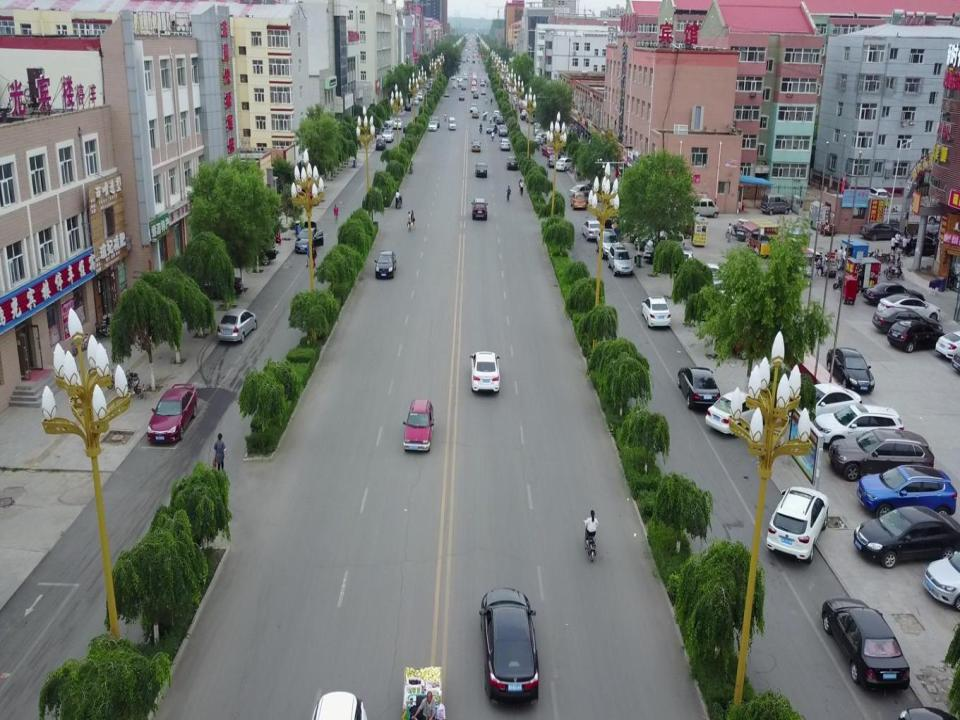car: (821, 598, 911, 690), (479, 588, 540, 712), (852, 505, 960, 568), (830, 428, 936, 482), (857, 464, 957, 520), (766, 485, 829, 562), (812, 404, 905, 454), (777, 384, 863, 429), (705, 390, 773, 437), (147, 383, 197, 444), (826, 347, 874, 394), (922, 551, 960, 608), (677, 365, 721, 411), (888, 319, 948, 352), (878, 294, 942, 324), (174, 273, 242, 299), (872, 306, 930, 336), (402, 399, 434, 453), (311, 691, 367, 720), (862, 281, 924, 306), (217, 308, 257, 344), (470, 351, 502, 393), (894, 235, 944, 257), (640, 294, 671, 329), (226, 244, 276, 264), (607, 242, 634, 278), (858, 222, 905, 240), (595, 229, 621, 260), (294, 228, 325, 253), (934, 331, 960, 360), (375, 251, 397, 280), (569, 184, 600, 200), (581, 220, 603, 241), (471, 198, 488, 219), (570, 192, 586, 210), (555, 158, 574, 170), (474, 163, 488, 179), (541, 144, 555, 158), (506, 156, 518, 170), (382, 130, 394, 143), (547, 154, 560, 166), (375, 138, 387, 150), (470, 140, 482, 152), (498, 138, 510, 150), (498, 124, 509, 136), (535, 133, 549, 141), (487, 124, 498, 134), (526, 112, 538, 121), (448, 117, 456, 130), (384, 116, 394, 126), (393, 118, 402, 129), (428, 121, 437, 132), (431, 116, 439, 127), (471, 109, 479, 118), (520, 111, 528, 120), (470, 104, 478, 112), (412, 97, 419, 105), (496, 116, 503, 124), (513, 92, 518, 103), (404, 104, 411, 111), (458, 93, 465, 100), (417, 92, 422, 101), (509, 84, 514, 92), (473, 92, 479, 98), (450, 74, 456, 80), (445, 89, 449, 97), (473, 72, 477, 80), (451, 82, 456, 88), (481, 89, 486, 95), (472, 79, 477, 85), (472, 86, 477, 91), (480, 80, 484, 86), (458, 76, 462, 82), (519, 104, 524, 108), (461, 86, 465, 90), (426, 84, 429, 88)
van: (643, 246, 693, 264), (645, 230, 685, 251), (690, 198, 719, 219), (760, 194, 790, 214), (463, 73, 467, 79), (458, 82, 462, 86)
